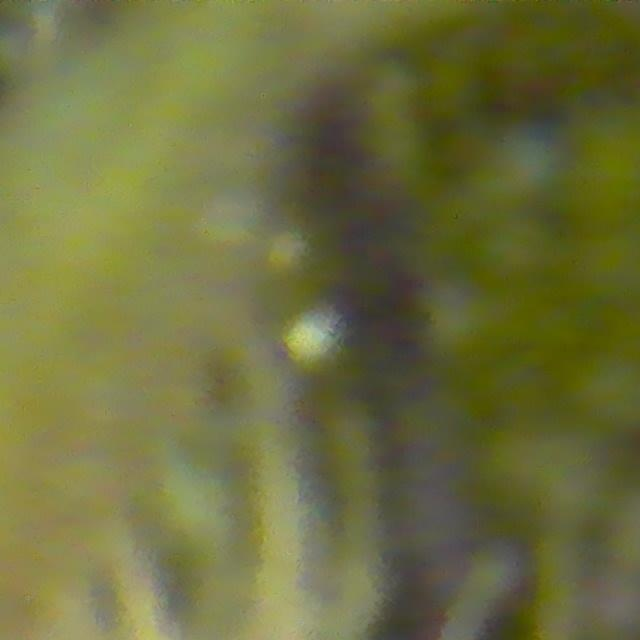SeaGrape: (480, 210, 560, 288)
